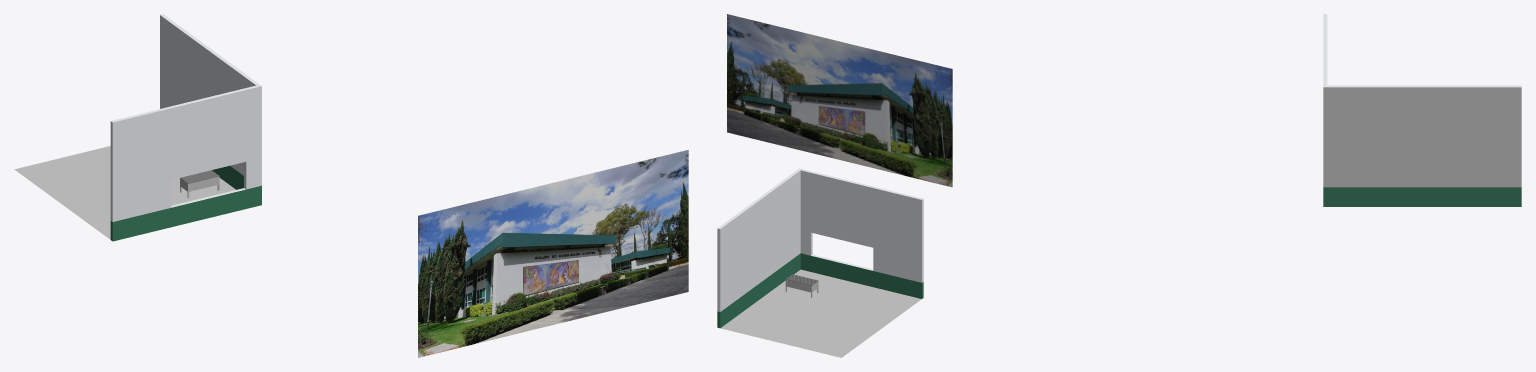
The model's file is TecScene.fbx.
3 renders of one model, left to right at view 1: azimuth 30°, elevation 25°; view 2: azimuth 150°, elevation 25°; view 3: azimuth 270°, elevation 25°, orthographic. The views are drawn at different scales.
Parts seen in each view (by area): view 1: pCube15, pCube14, pCube1, pPlane1; view 2: pCube15, pCube14, pPlane1, pCube1, pCube8, pCube2; view 3: pCube1.
Part boxes in pixels (x1,y1,x2,y2): pCube15: [418, 150, 688, 357]; pCube14: [110, 85, 258, 241]; pCube1: [160, 14, 261, 205]; pPlane1: [14, 146, 235, 239]; pCube15: [727, 14, 952, 187]; pCube14: [800, 169, 923, 298]; pPlane1: [720, 269, 921, 357]; pCube1: [717, 168, 801, 328]; pCube8: [785, 280, 818, 292]; pCube2: [785, 274, 818, 285]; pCube1: [1323, 85, 1521, 206].
Bounding box in the file's own units: 9915 × 3361 × 11362.
